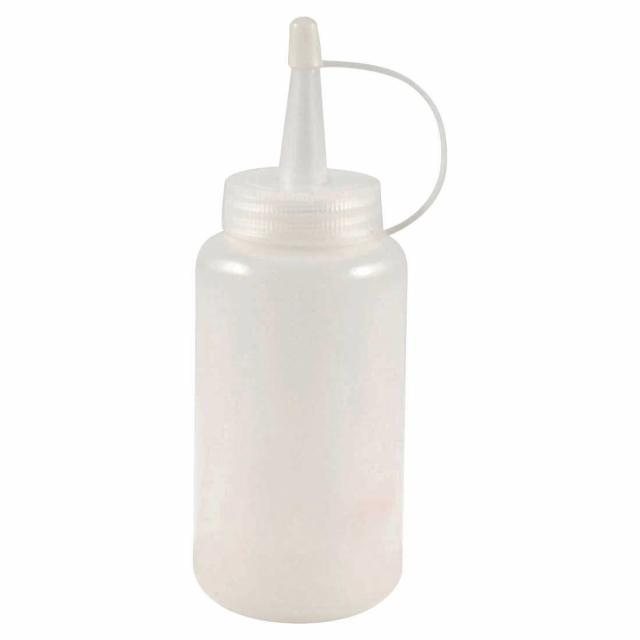Plastic: (197, 14, 447, 624)
